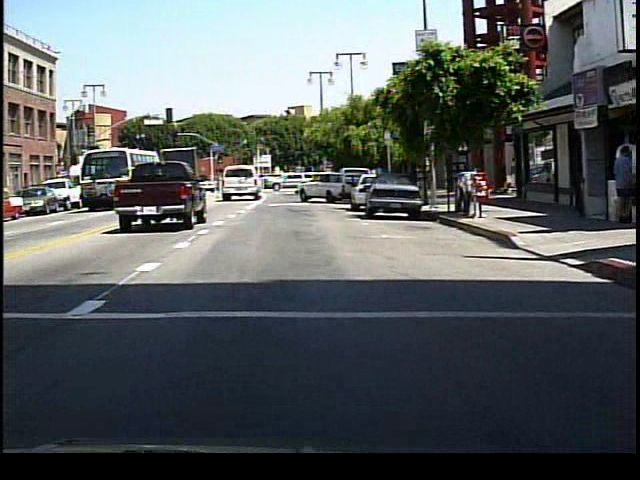person: (607, 144, 631, 223)
